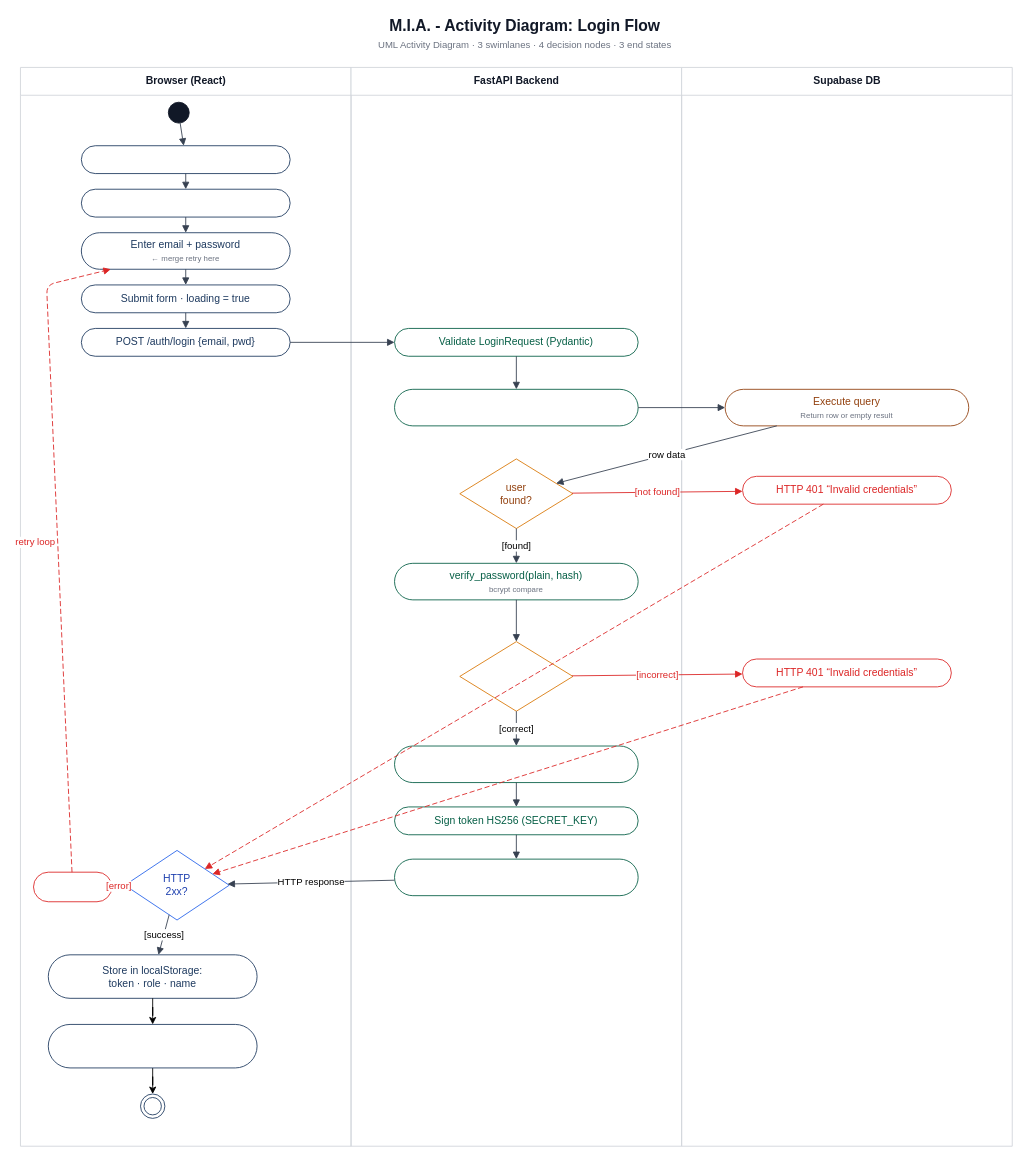
This 1027x1161 diagram has some shape labels left out. Here are the shapes that lost their labels. From the top down, the centre of each, then its label:
pixel 185 159: Navigate to /login
pixel 185 202: Render login form
pixel 516 407: SELECT * FROM users WHERE email = ?
pixel 516 676: password correct?
pixel 516 764: Build JWT payload {sub: user_id, role, exp: now+8h}
pixel 72 886: Show error re-enable form
pixel 516 877: Return HTTP 200 {access_token, role, name}
pixel 152 1046: log in to the relevant profile: Admin - Prof - Student
